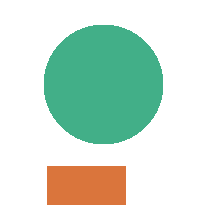circle: (44, 25, 162, 143)
rectangle: (47, 166, 125, 204)
